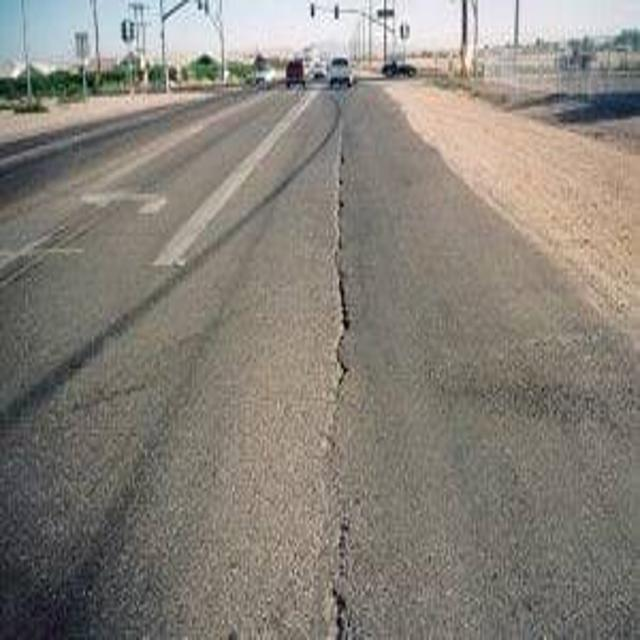Memanjang: (323, 97, 366, 640)
